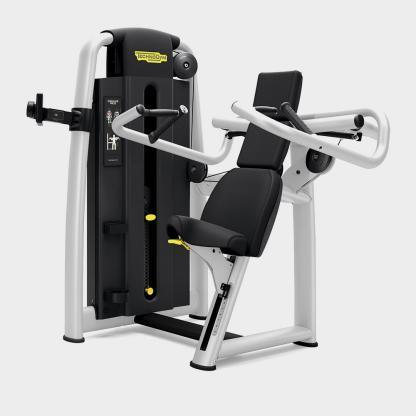shoulder press machine: (22, 18, 395, 375)
